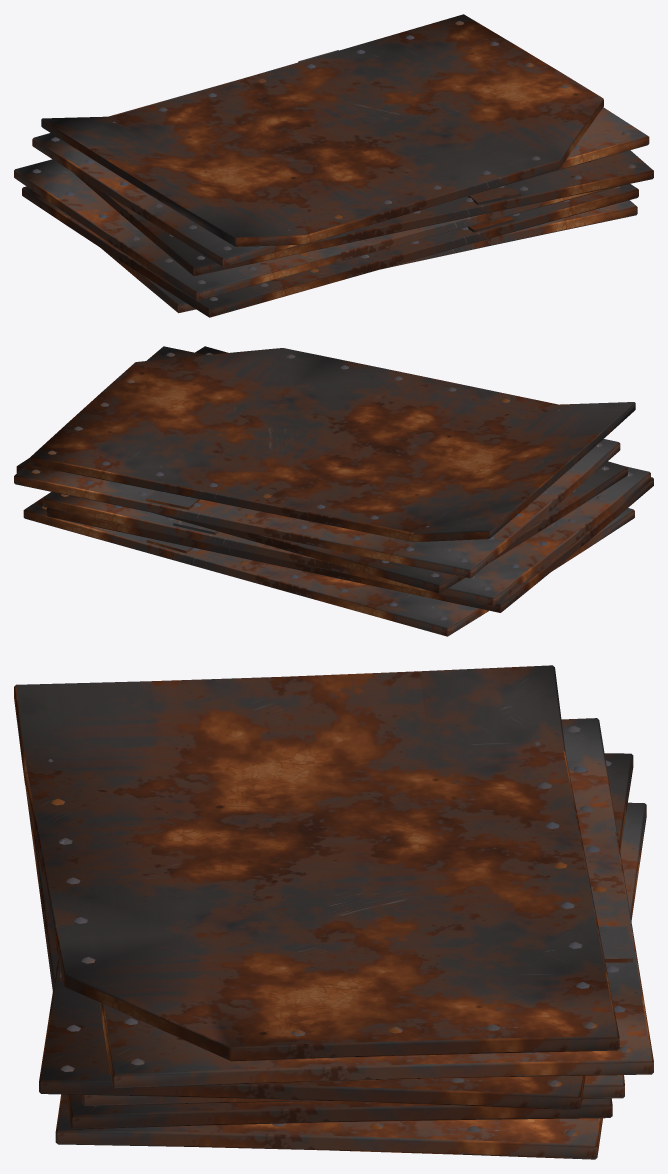
Rendered from Metal_Plate_Stack.glb.
3 views of the same model, one above another, from view 1: azimuth 30°, elevation 25°; view 2: azimuth 150°, elevation 25°; view 3: azimuth 270°, elevation 25° (orthographic). The views are drawn at different scales.
Visible parts, largest first — view 1: Metal_Plate_Stack; view 2: Metal_Plate_Stack; view 3: Metal_Plate_Stack.
Boxes of the visible parts, x1,y1,x2,y2 form: Metal_Plate_Stack: (14, 14, 653, 317); Metal_Plate_Stack: (14, 346, 653, 636); Metal_Plate_Stack: (14, 665, 653, 1159).
Size of the model in its own units: 1.64 by 0.2937 by 1.18.
3 materials, 3 textured.
